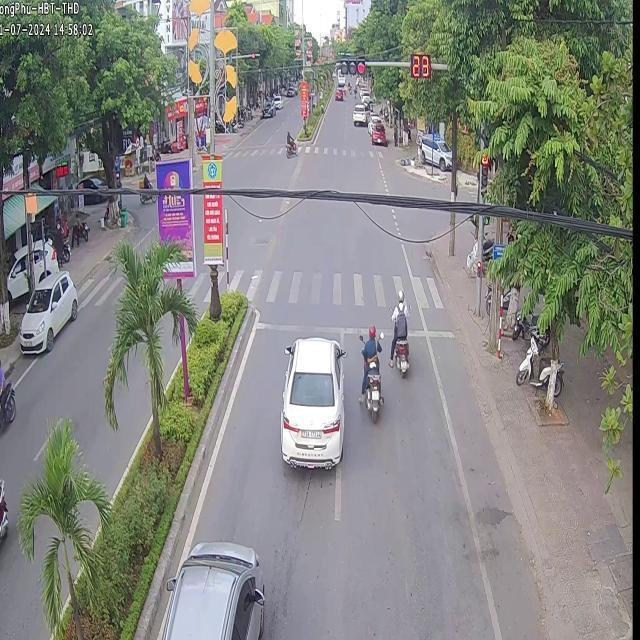car: (160, 540, 263, 638), (279, 336, 344, 467), (18, 269, 76, 352)
motobike: (357, 322, 382, 419), (393, 336, 408, 376)
red_light: (409, 52, 429, 78), (479, 152, 488, 192), (341, 60, 366, 73)
stop_line: (251, 317, 366, 335), (409, 326, 457, 339), (378, 327, 392, 336)
